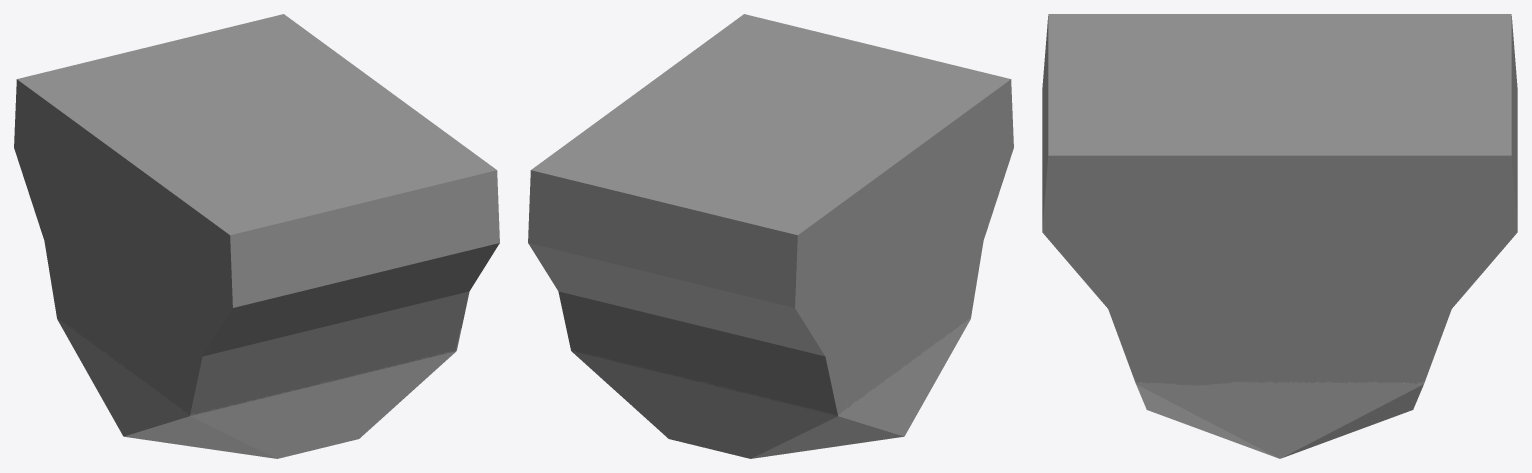
The model's file is BulletEnemy.obj.
3 views of the same model, side by side, from view 1: azimuth 30°, elevation 25°; view 2: azimuth 150°, elevation 25°; view 3: azimuth 270°, elevation 25° (orthographic). The views are drawn at different scales.
Parts seen in each view (by area): view 1: Cube.001; view 2: Cube.001; view 3: Cube.001.
Part boxes in pixels (x1,y1,x2,y2): Cube.001: [14, 14, 499, 458]; Cube.001: [528, 14, 1013, 458]; Cube.001: [1042, 14, 1517, 458].
Size of the model in its own units: 2 by 2 by 2.84.
